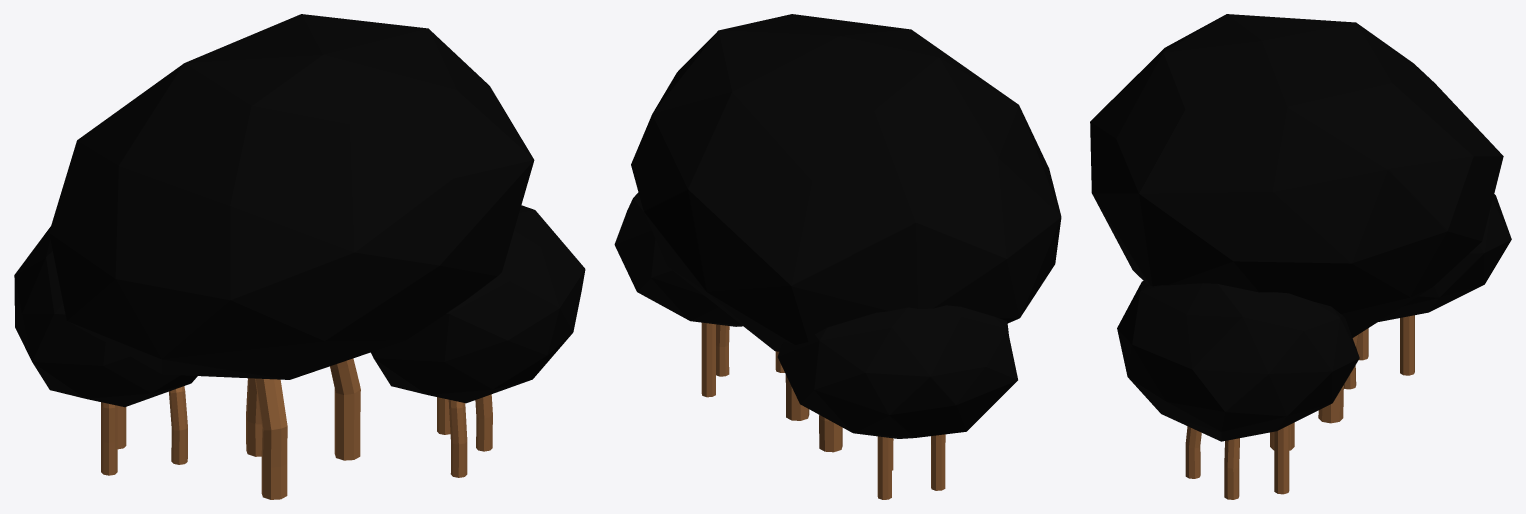
The model's file is Bush_2.fbx.
The picture shows the model from 3 angles, left to right: view 1: azimuth 30°, elevation 25°; view 2: azimuth 150°, elevation 25°; view 3: azimuth 270°, elevation 25°; orthographic projection. The views are drawn at different scales.
Visible parts, largest first — view 1: Bush_2; view 2: Bush_2; view 3: Bush_2.
Boxes of the visible parts, <box> form: Bush_2: <box>14,14,585,499</box>; Bush_2: <box>614,14,1061,499</box>; Bush_2: <box>1090,14,1511,499</box>.
Size of the model in its own units: 0.4788 by 0.3958 by 0.3881.
